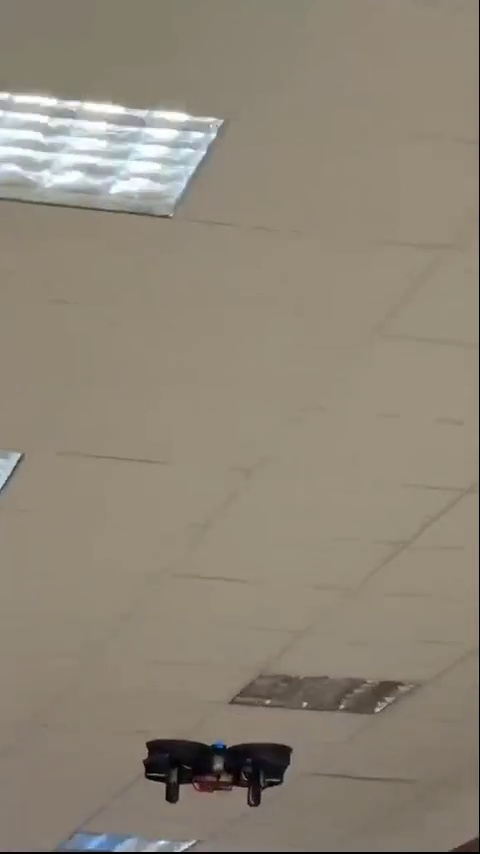drone: (137, 734, 295, 811)
